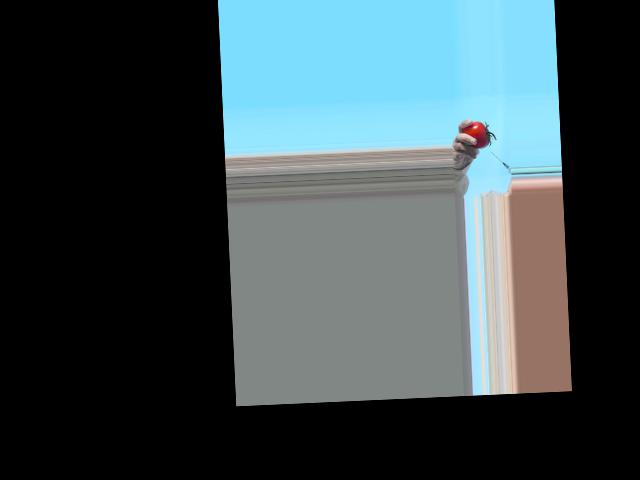tomato: (462, 120, 490, 149)
